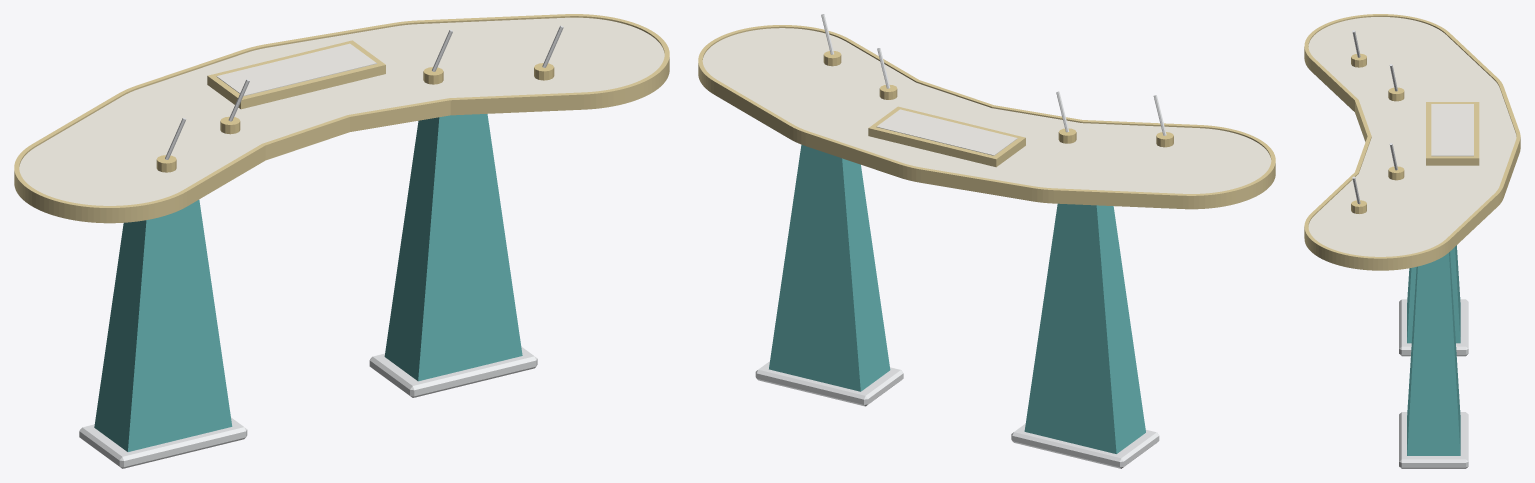
Rendered from check_desk.glb.
The picture shows the model from 3 angles, left to right: view 1: azimuth 30°, elevation 25°; view 2: azimuth 150°, elevation 25°; view 3: azimuth 270°, elevation 25°; orthographic projection. The views are drawn at different scales.
Visible parts, largest first — view 1: check_desk_teal, check_desk_cream, check_desk_gold, check_desk_chrome, check_desk_paper, check_desk_brass; view 2: check_desk_teal, check_desk_cream, check_desk_gold, check_desk_chrome, check_desk_paper, check_desk_brass; view 3: check_desk_cream, check_desk_teal, check_desk_gold, check_desk_chrome, check_desk_paper, check_desk_brass.
Part boxes in pixels (<box>): check_desk_teal: <box>94,114,522,451</box>; check_desk_cream: <box>19,17,664,205</box>; check_desk_gold: <box>14,14,669,223</box>; check_desk_chrome: <box>79,25,563,468</box>; check_desk_paper: <box>216,43,376,96</box>; check_desk_brass: <box>156,63,554,172</box>; check_desk_teal: <box>769,144,1145,453</box>; check_desk_cream: <box>702,28,1271,193</box>; check_desk_gold: <box>698,25,1275,209</box>; check_desk_chrome: <box>755,14,1166,468</box>; check_desk_paper: <box>876,109,1017,155</box>; check_desk_brass: <box>823,51,1173,147</box>; check_desk_cream: <box>1308,17,1516,256</box>; check_desk_teal: <box>1407,245,1460,455</box>; check_desk_gold: <box>1304,14,1520,270</box>; check_desk_chrome: <box>1352,30,1468,468</box>; check_desk_paper: <box>1431,104,1473,156</box>; check_desk_brass: <box>1351,53,1404,213</box>.
Bounding box in the file's own units: 2.17 × 1.2 × 0.8098.
